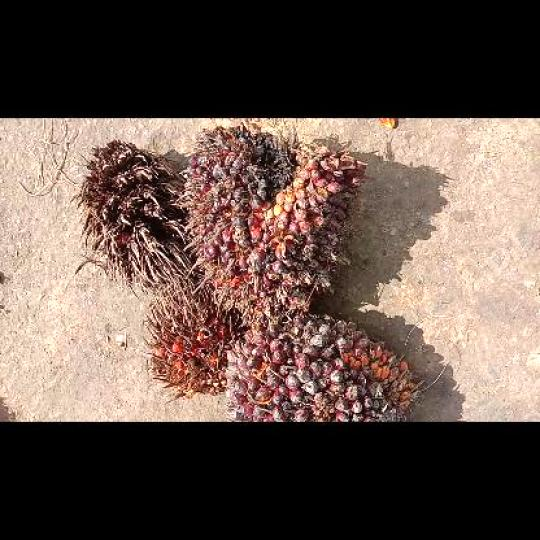kurang masak: (226, 311, 428, 421)
masak: (175, 124, 373, 325)
terlalu masak: (141, 278, 248, 404)
